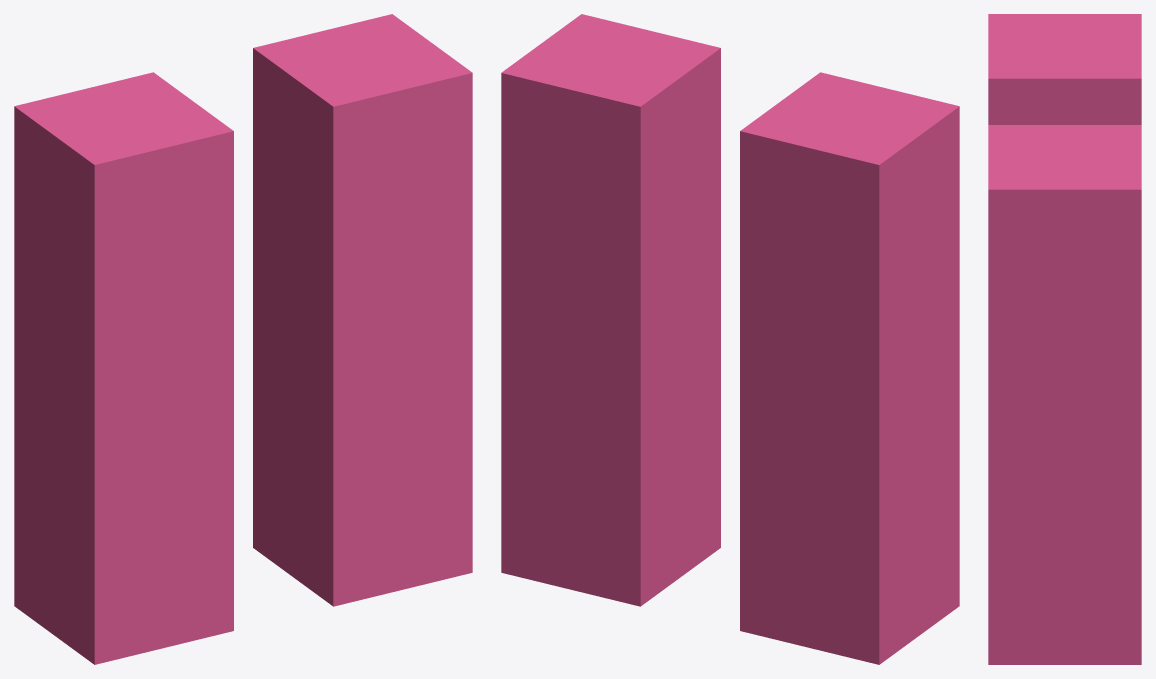
Rendered from skomma__male_pink_leg_01.glb.
3 views of the same model, side by side, from view 1: azimuth 30°, elevation 25°; view 2: azimuth 150°, elevation 25°; view 3: azimuth 270°, elevation 25° (orthographic). The views are drawn at different scales.
Visible parts, largest first — view 1: Left_Leg, Right_Leg; view 2: Left_Leg, Right_Leg; view 3: Right_Leg, Left_Leg.
Part boxes in pixels (<box>): Left_Leg: <box>14,72,233,664</box>; Right_Leg: <box>253,14,472,606</box>; Left_Leg: <box>740,72,959,664</box>; Right_Leg: <box>501,14,720,606</box>; Right_Leg: <box>988,125,1141,664</box>; Left_Leg: <box>988,14,1141,124</box>.
Size of the model in its own units: 0.95 by 1.2 by 0.35.
